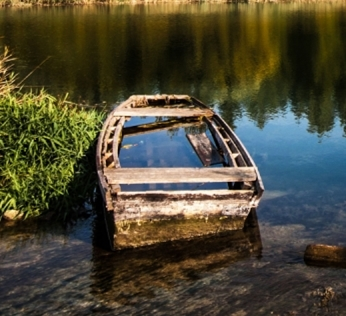boat_cabin: (89, 86, 272, 254)
